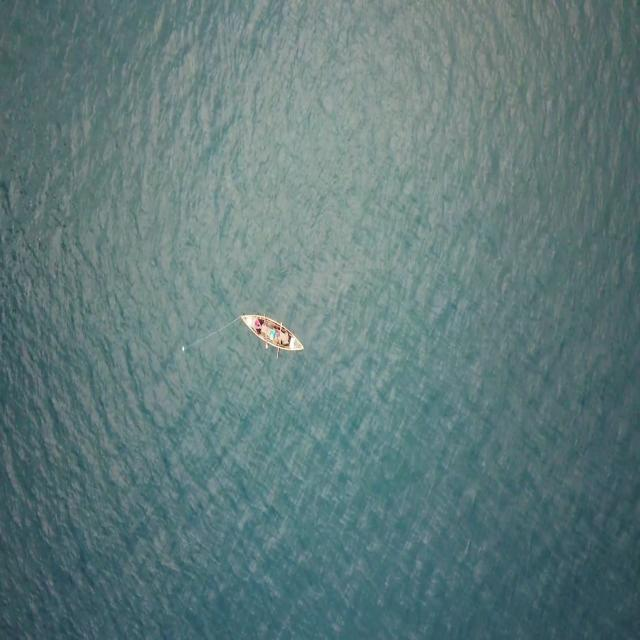ship: (238, 304, 306, 356)
